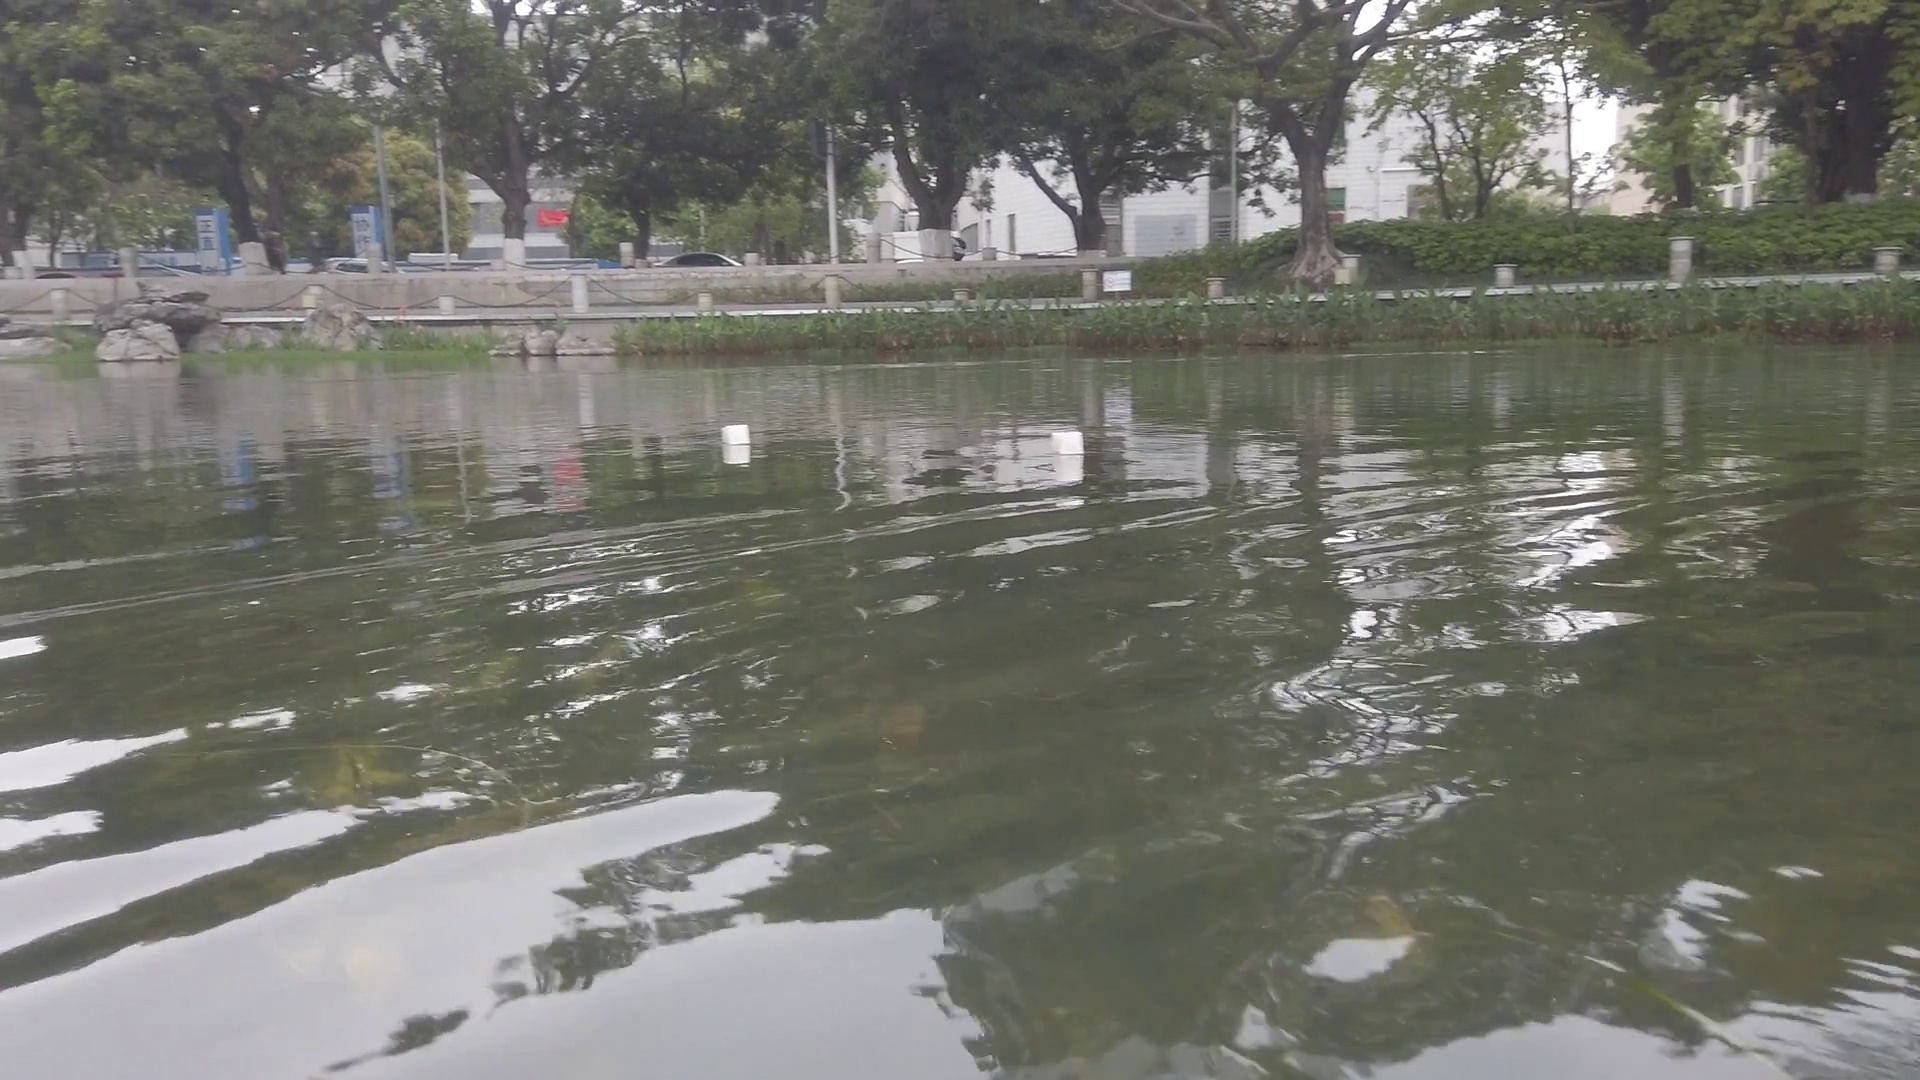carton: (1052, 430, 1088, 458), (720, 425, 750, 444)
